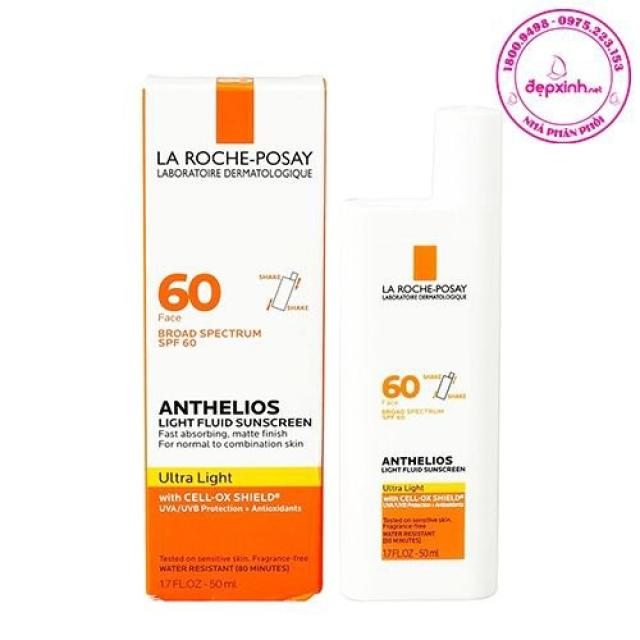cosmotic: (144, 85, 323, 589), (354, 197, 491, 603)
